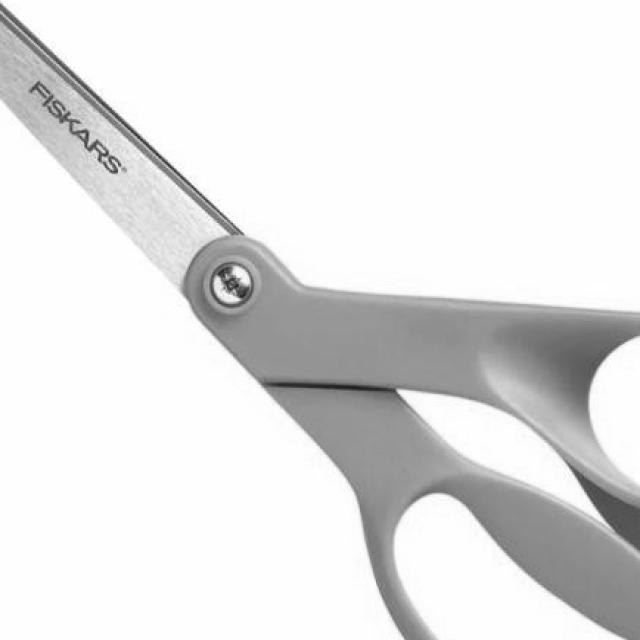tesoura: (0, 1, 639, 639)
